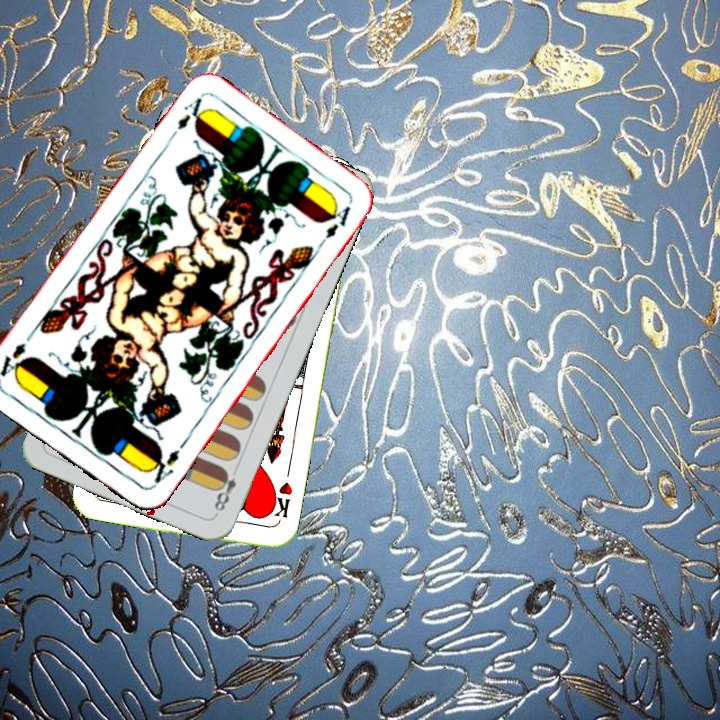E8: (210, 462, 242, 517)
EA: (164, 93, 210, 143), (144, 445, 183, 490)
HK: (264, 478, 295, 521)
